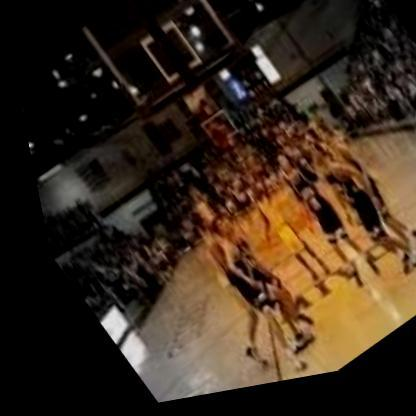basketball: (198, 124, 228, 160)
